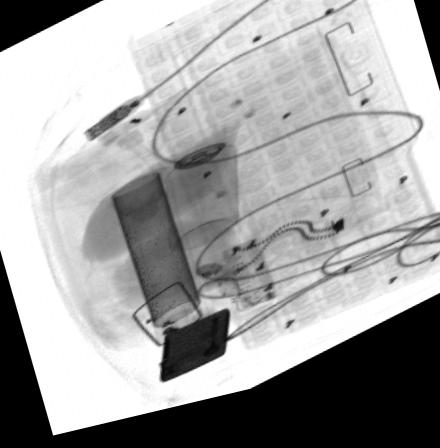Lighter: (158, 318, 229, 390)
Sprayer: (112, 177, 206, 353)
